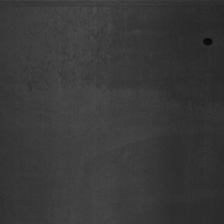punching_hole: (14, 6, 135, 92), (202, 35, 214, 48)
